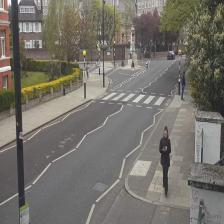person: (158, 126, 170, 194)
